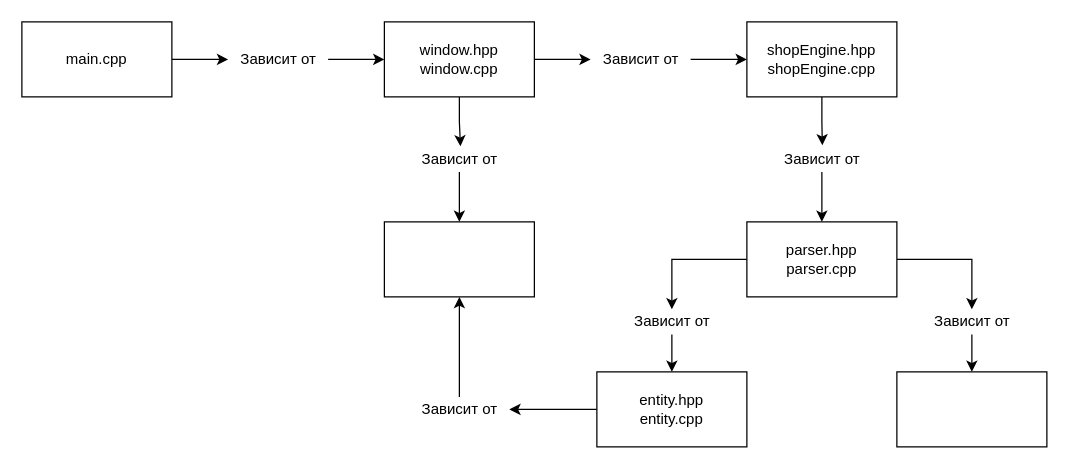
This 1069x469 diagram has some shape labels left out. Here are the shapes that lost their labels. From the top down, the box of each, then its label:
(383, 221, 534, 297): Библиотека Qt
(896, 371, 1047, 447): Библиотека JsonCpp
